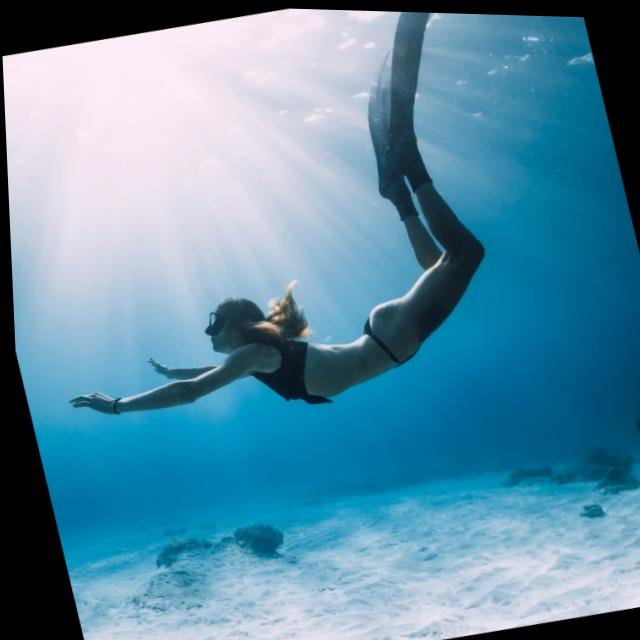human: (0, 0, 562, 467)
